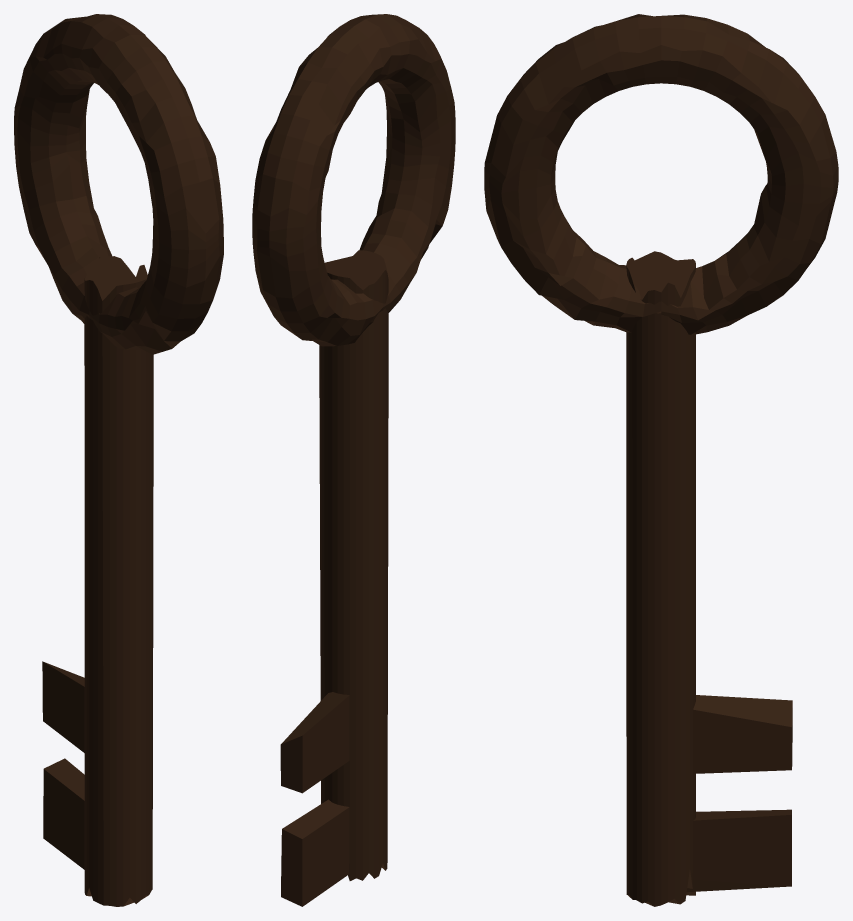
The model's file is Key.fbx.
The picture shows the model from 3 angles, left to right: view 1: azimuth 30°, elevation 25°; view 2: azimuth 150°, elevation 25°; view 3: azimuth 270°, elevation 25°; orthographic projection. The views are drawn at different scales.
Parts seen in each view (by area): view 1: Cylinder; view 2: Cylinder; view 3: Cylinder.
Boxes of the visible parts, x1,y1,x2,y2 form: Cylinder: (14, 14, 223, 906); Cylinder: (252, 14, 455, 906); Cylinder: (484, 14, 838, 906).
Size of the model in its own units: 55.37 by 742 by 271.
